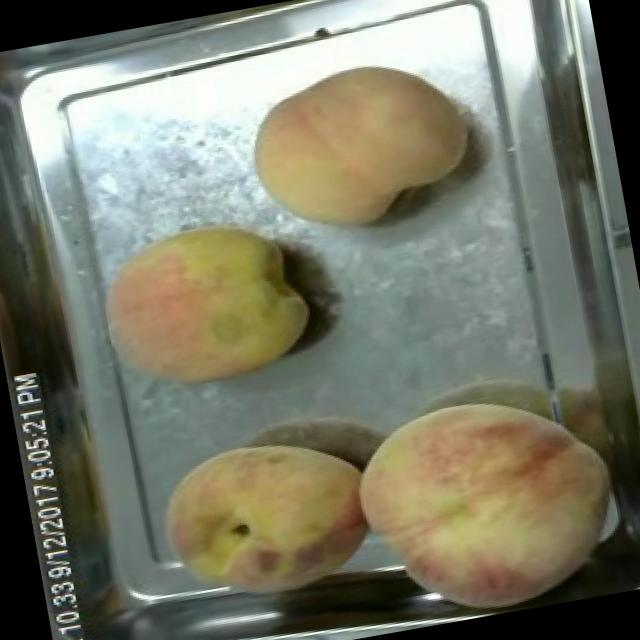Fruit: (331, 367, 640, 636), (232, 38, 486, 255), (134, 413, 388, 628), (78, 198, 330, 412)
